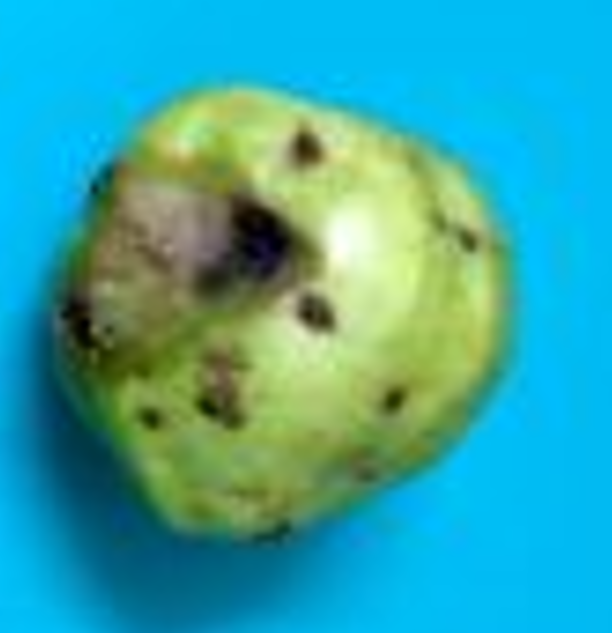guava_C: (47, 83, 525, 546)
